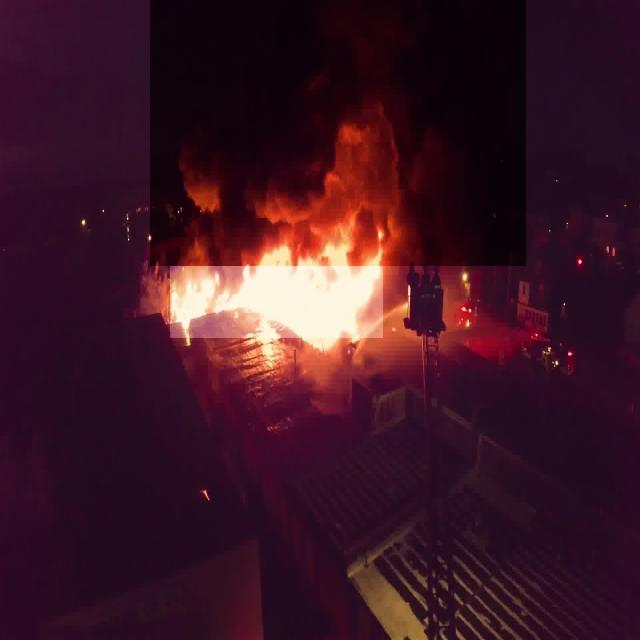Fire: (170, 243, 383, 338)
Smoke: (150, 0, 526, 266)
